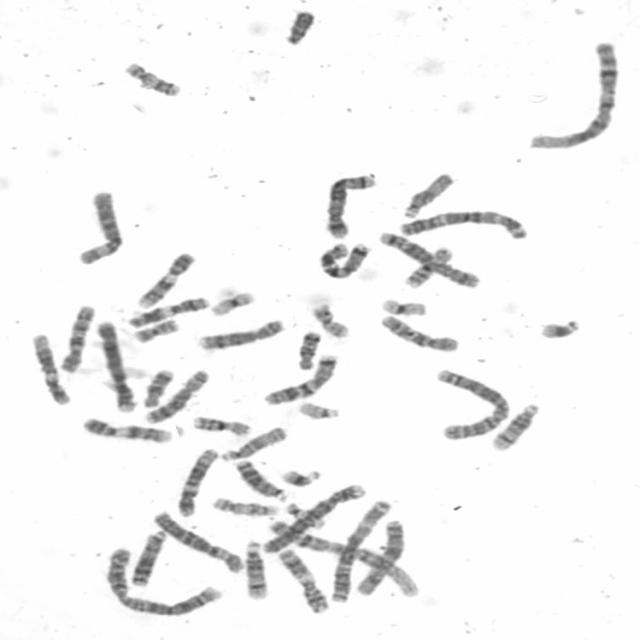A1: (261, 515, 422, 599), (521, 35, 622, 152)
A2: (99, 542, 224, 618), (427, 363, 512, 441)
A3: (325, 496, 394, 604), (393, 205, 531, 241)
B4: (257, 478, 369, 555), (90, 315, 138, 414)
B5: (372, 227, 482, 290), (319, 168, 379, 240)
C10: (374, 309, 462, 354), (53, 300, 97, 374)
C11: (272, 544, 332, 614), (120, 291, 212, 329)
C12: (171, 442, 220, 518), (26, 328, 72, 407)
C6: (147, 506, 247, 574), (71, 184, 126, 266)
C7: (257, 348, 341, 406), (313, 237, 373, 280)
C8: (138, 365, 210, 425), (192, 313, 287, 351)
C9: (131, 247, 197, 309), (76, 412, 174, 444)
D13: (230, 454, 290, 502), (127, 526, 169, 587)
D14: (484, 397, 542, 452), (238, 534, 271, 602)
D15: (396, 167, 456, 220), (215, 421, 290, 462)
E16: (399, 242, 455, 290), (186, 411, 253, 437)
E17: (118, 56, 184, 98), (206, 491, 281, 518)
E18: (138, 364, 176, 408), (290, 325, 324, 371)
F19: (204, 286, 257, 317), (375, 293, 429, 317)
F20: (305, 298, 352, 338), (126, 312, 182, 344)
G21: (533, 313, 583, 341), (274, 464, 324, 488)
G22: (280, 498, 329, 530), (292, 396, 343, 421)
X: (350, 515, 408, 597)
Y: (278, 5, 318, 46)
